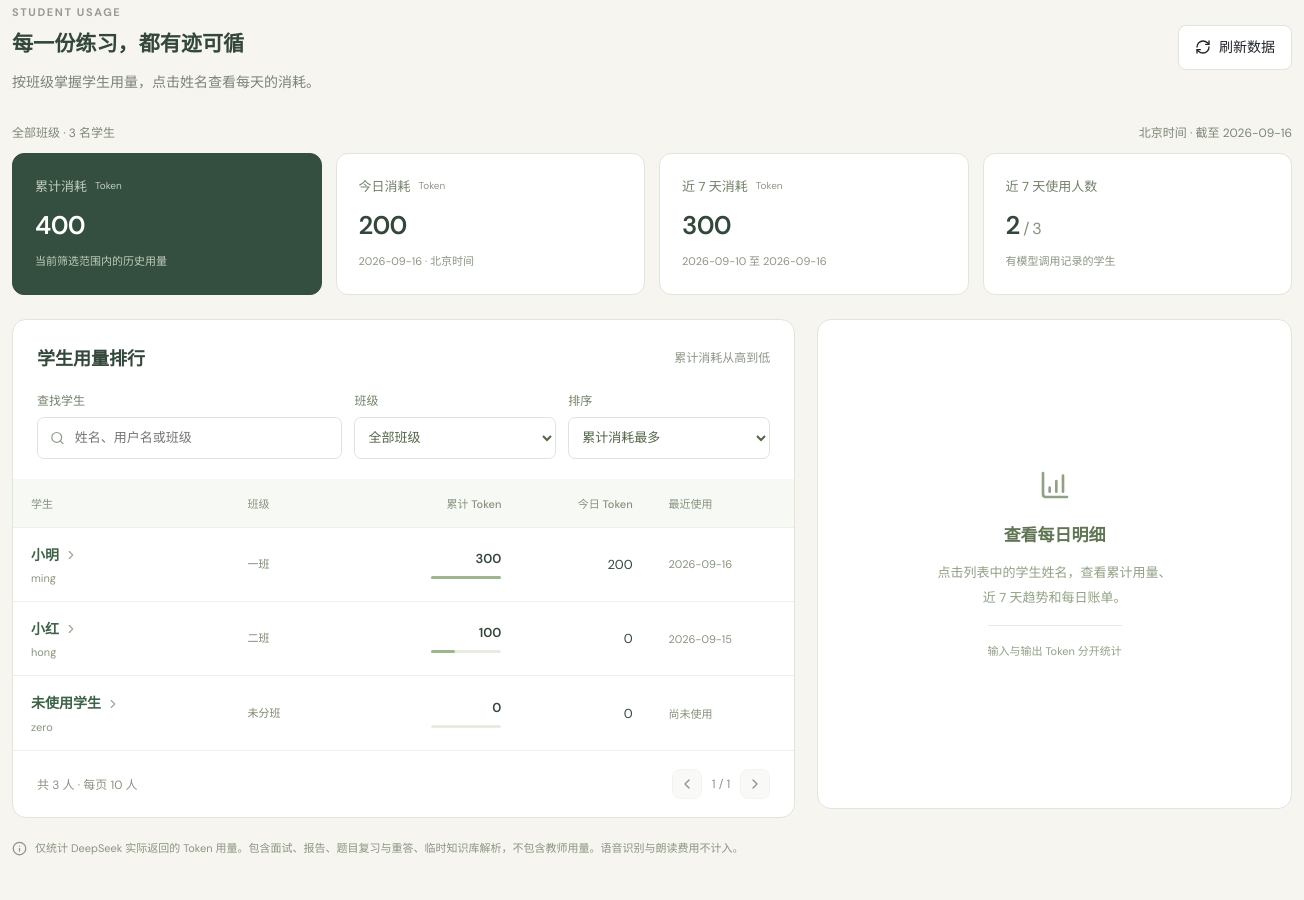
Scenario: preserves the last successful ledger when refreshing fails
Click the button with class "refresh" at (1235, 47), box [1178,25,1292,70]
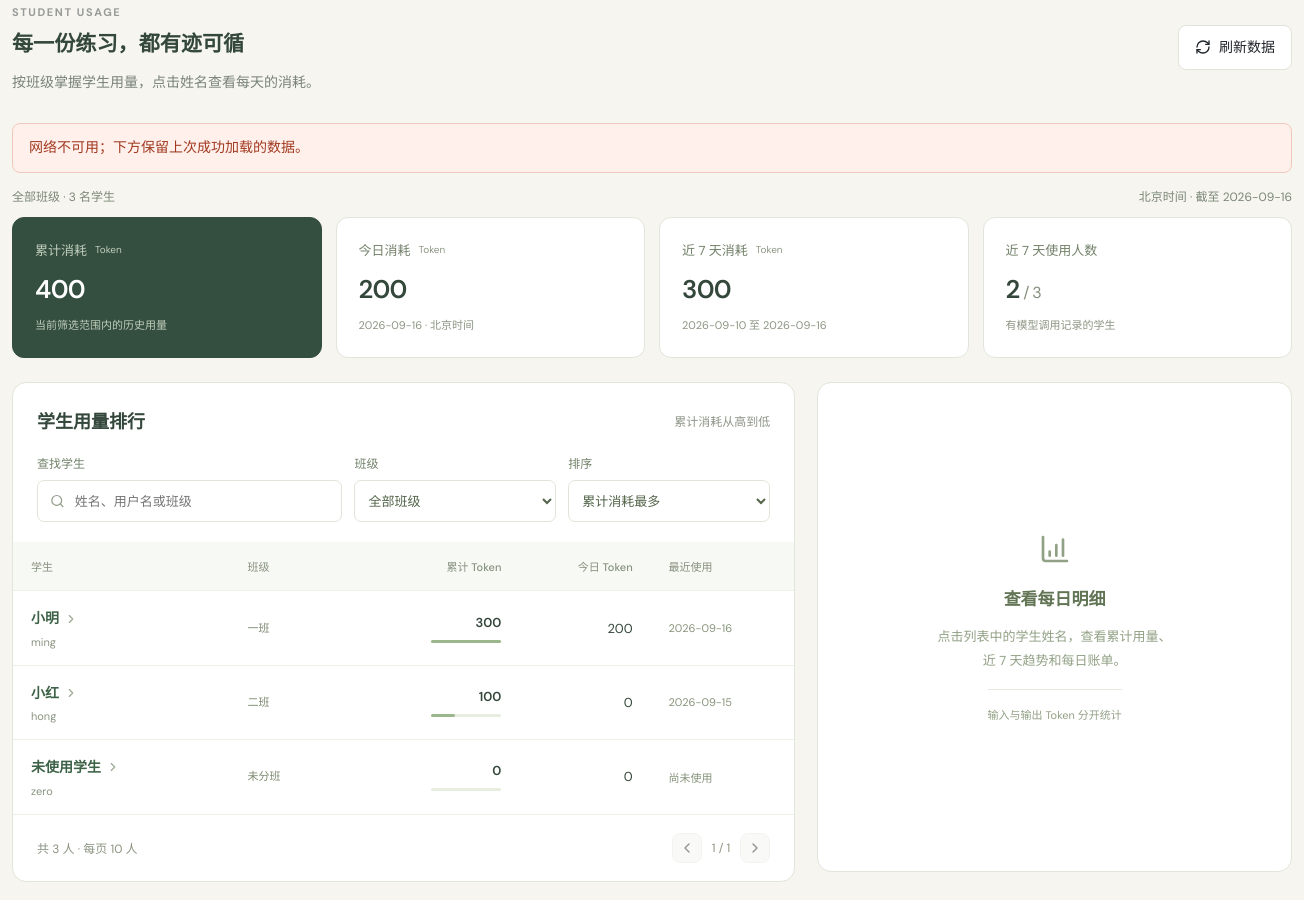
Expected: the text "400" is shown, [35,272,85,306]
Expected: the message "网络不可用；下方保留上次成功加载的数据。" is shown, [12,123,1292,173]
